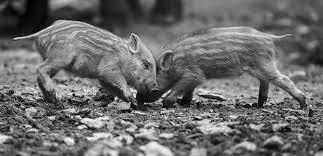wildboar: (136, 23, 309, 109), (12, 18, 160, 108)
